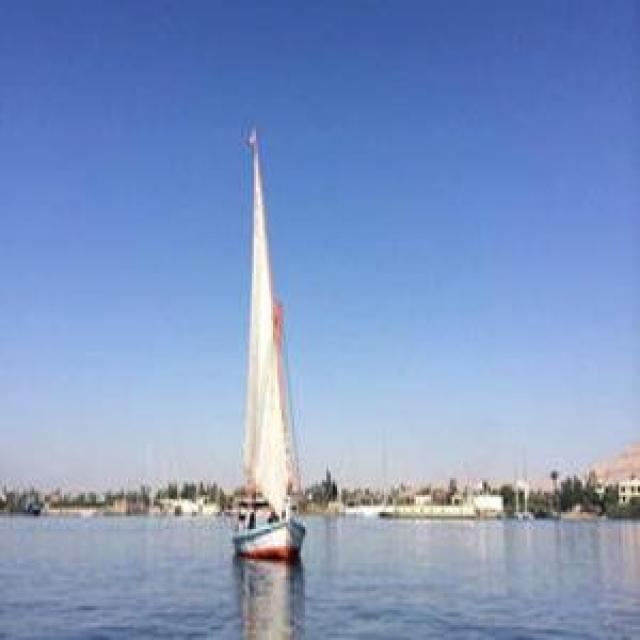sailboat: (228, 123, 310, 564)
